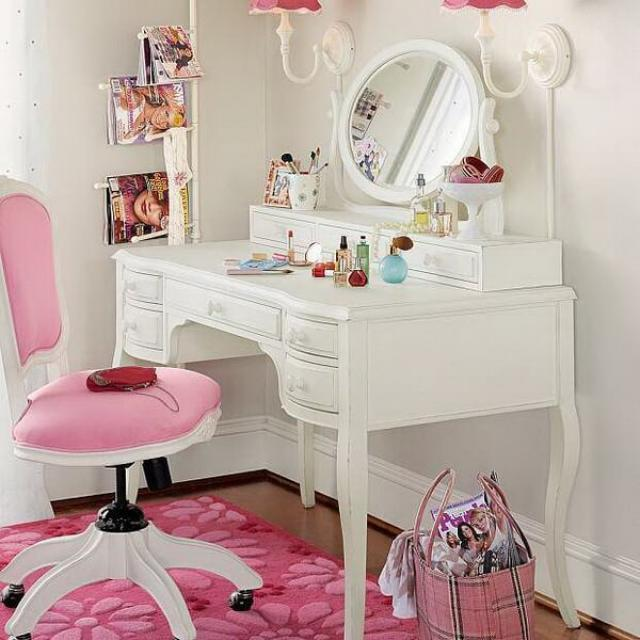table: (122, 205, 580, 418)
